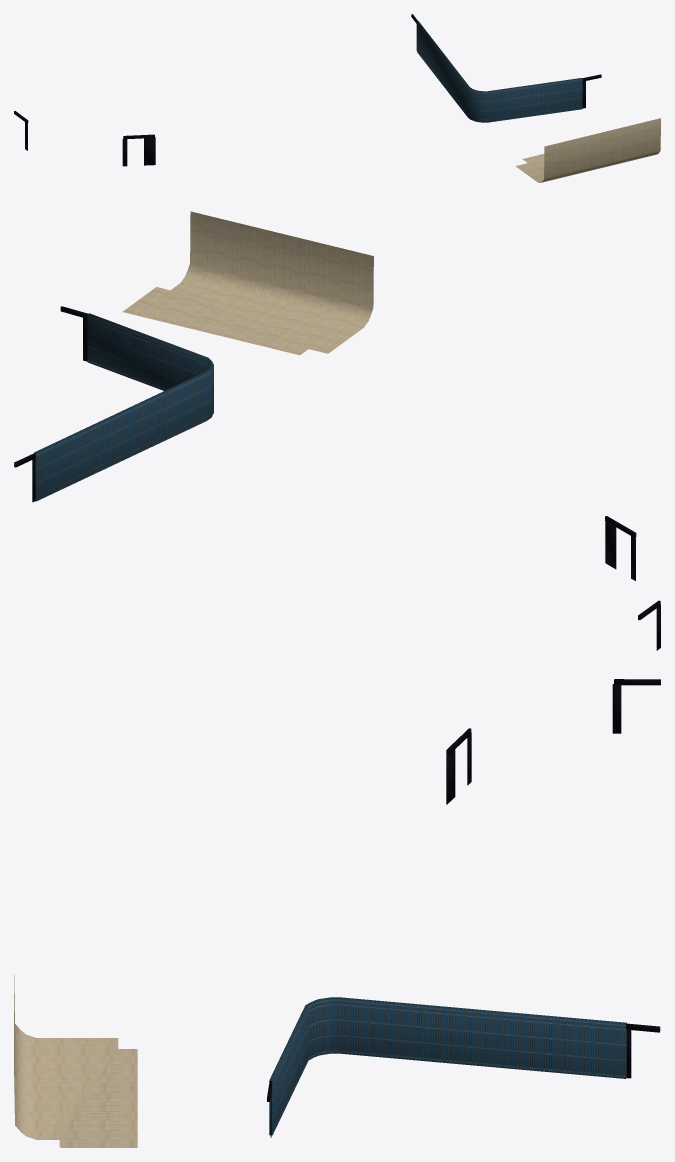
File: TELLUS_arena_WAlls_002.FBX
3 views of the same model, one above another, from view 1: azimuth 30°, elevation 25°; view 2: azimuth 150°, elevation 25°; view 3: azimuth 270°, elevation 25° (orthographic). The views are drawn at different scales.
Visible parts, largest first — view 1: TELLUS_arena_WAlls_002; view 2: TELLUS_arena_WAlls_002; view 3: TELLUS_arena_WAlls_002.
Boxes of the visible parts, x1,y1,x2,y2 form: TELLUS_arena_WAlls_002: [14, 14, 660, 182]; TELLUS_arena_WAlls_002: [14, 211, 660, 650]; TELLUS_arena_WAlls_002: [14, 679, 660, 1147].
Bounding box in the file's own units: 4531 × 2965 × 377.
